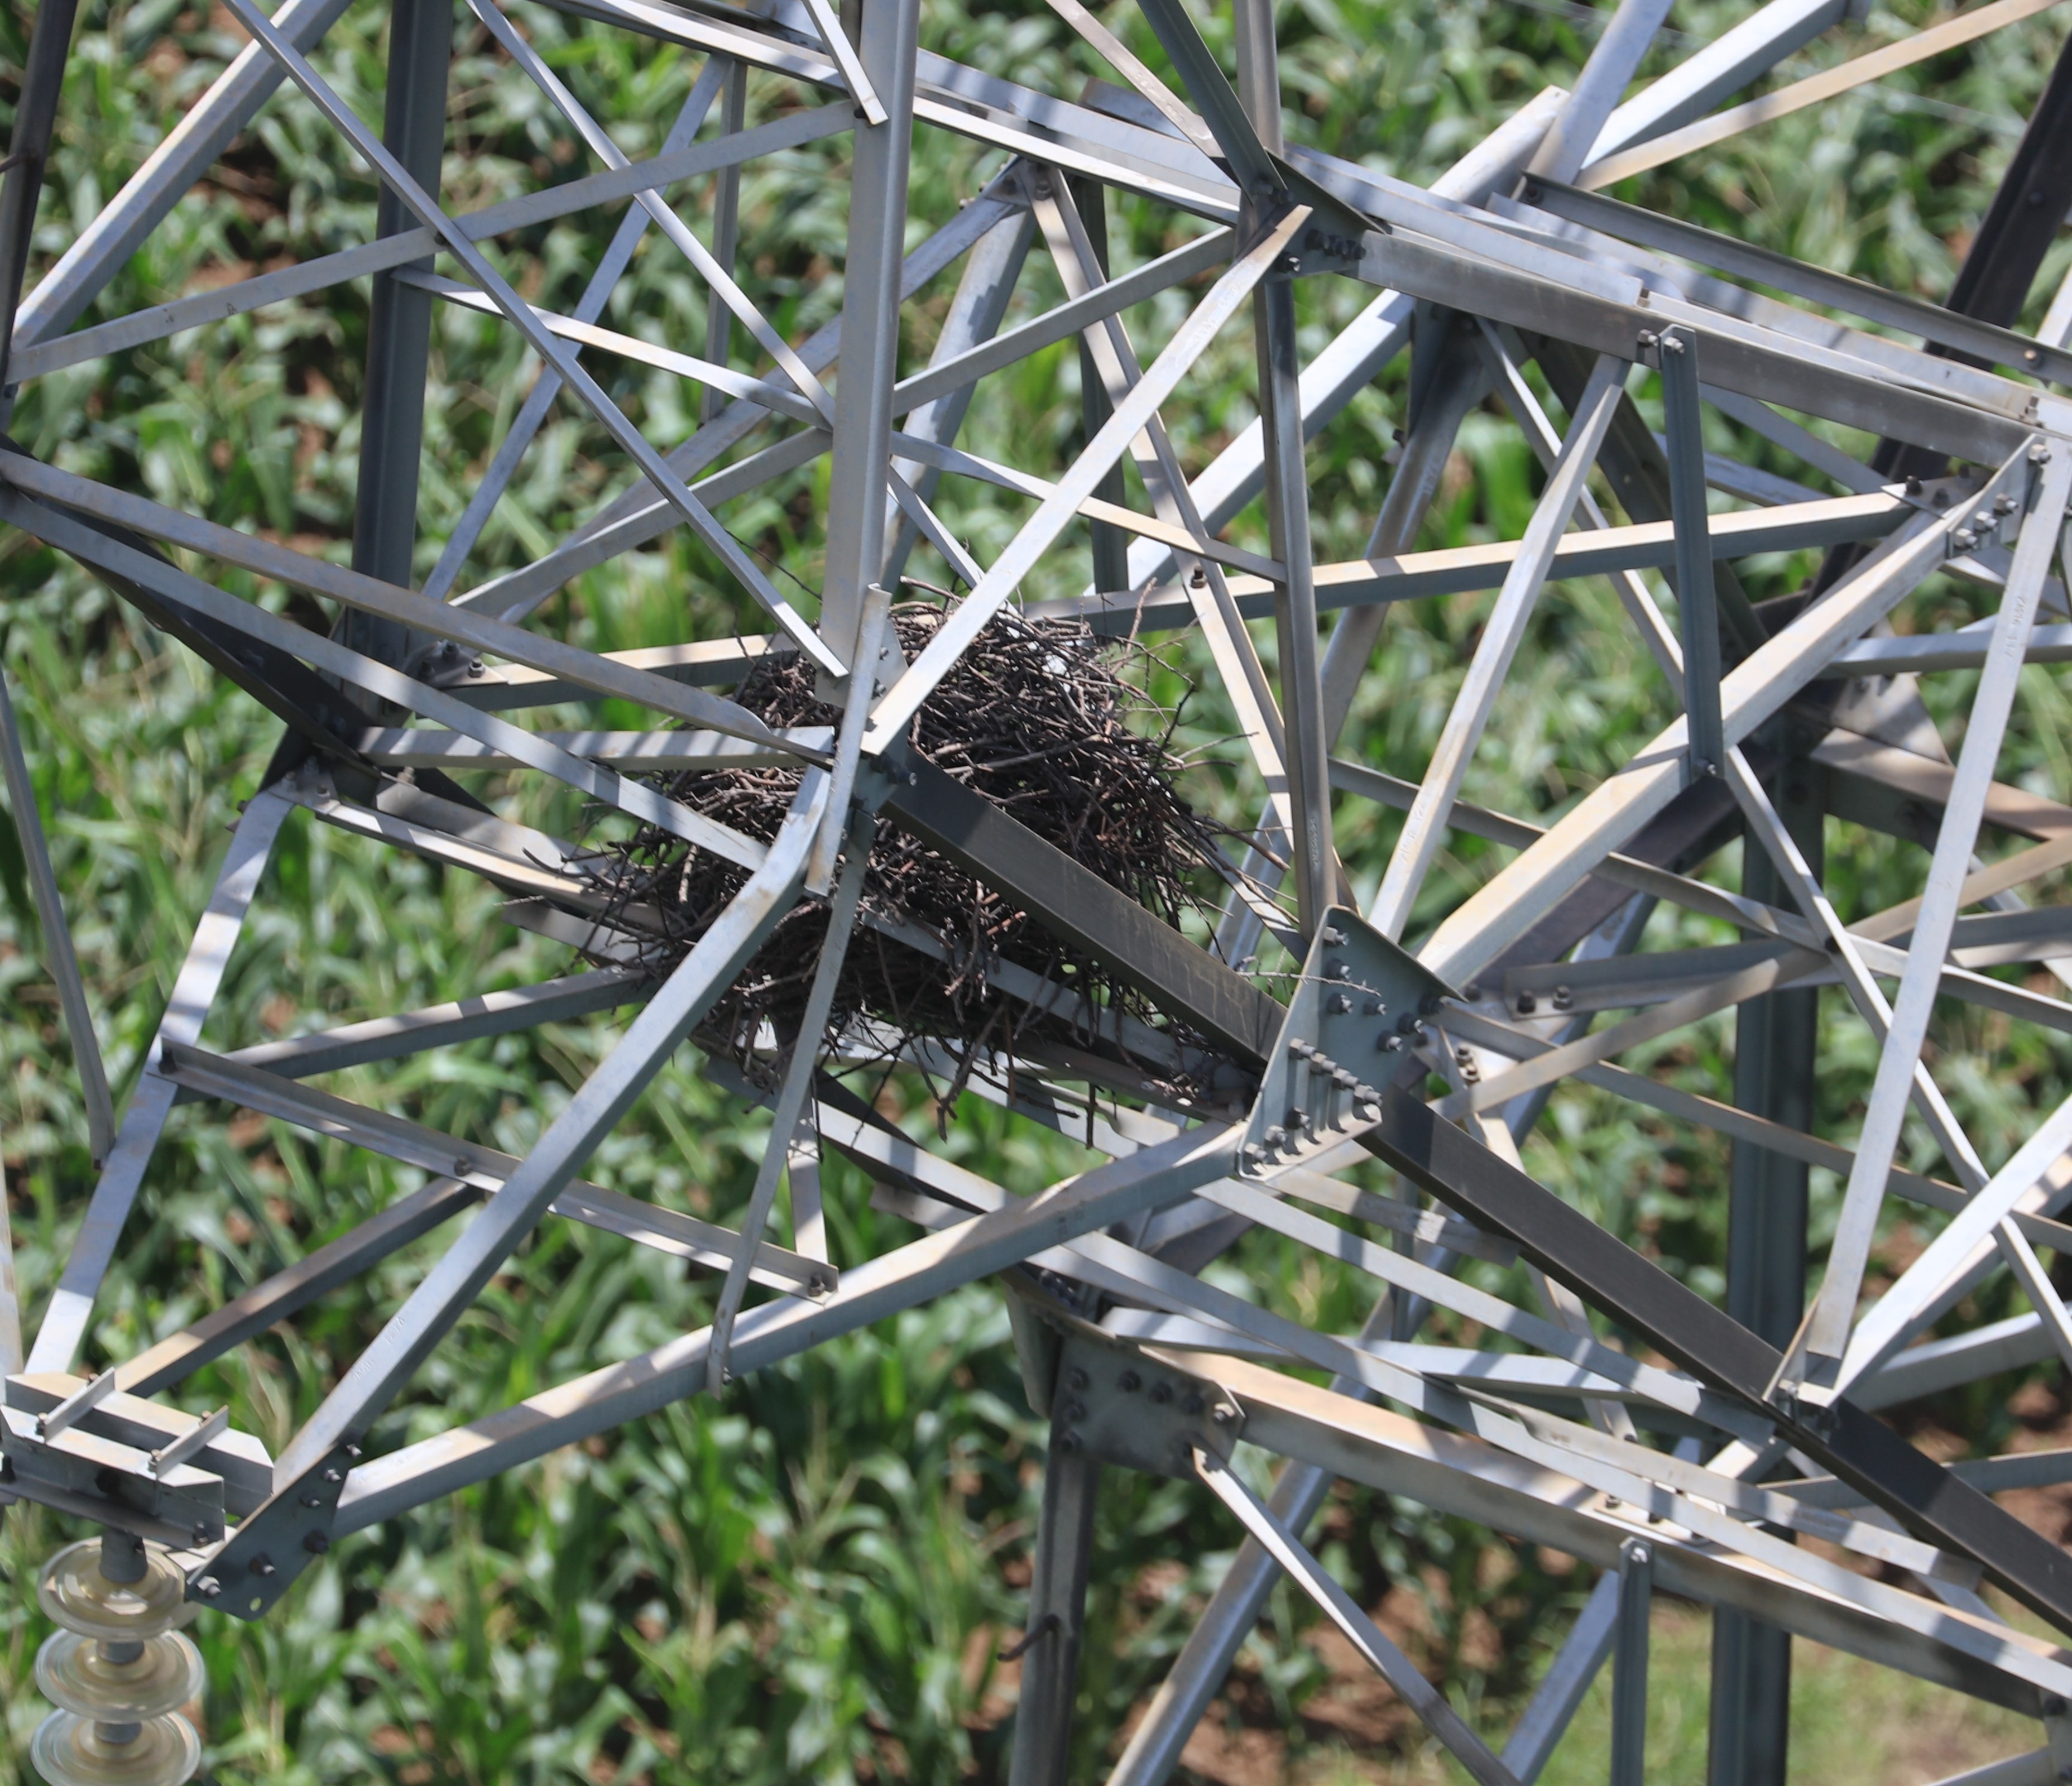niaowo: (647, 542, 1214, 1089)
